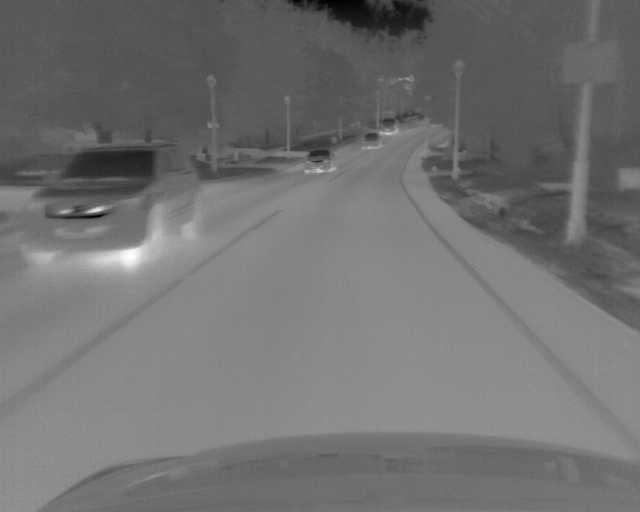car: (18, 139, 203, 268), (303, 149, 339, 176), (361, 132, 383, 151), (380, 119, 400, 134)
